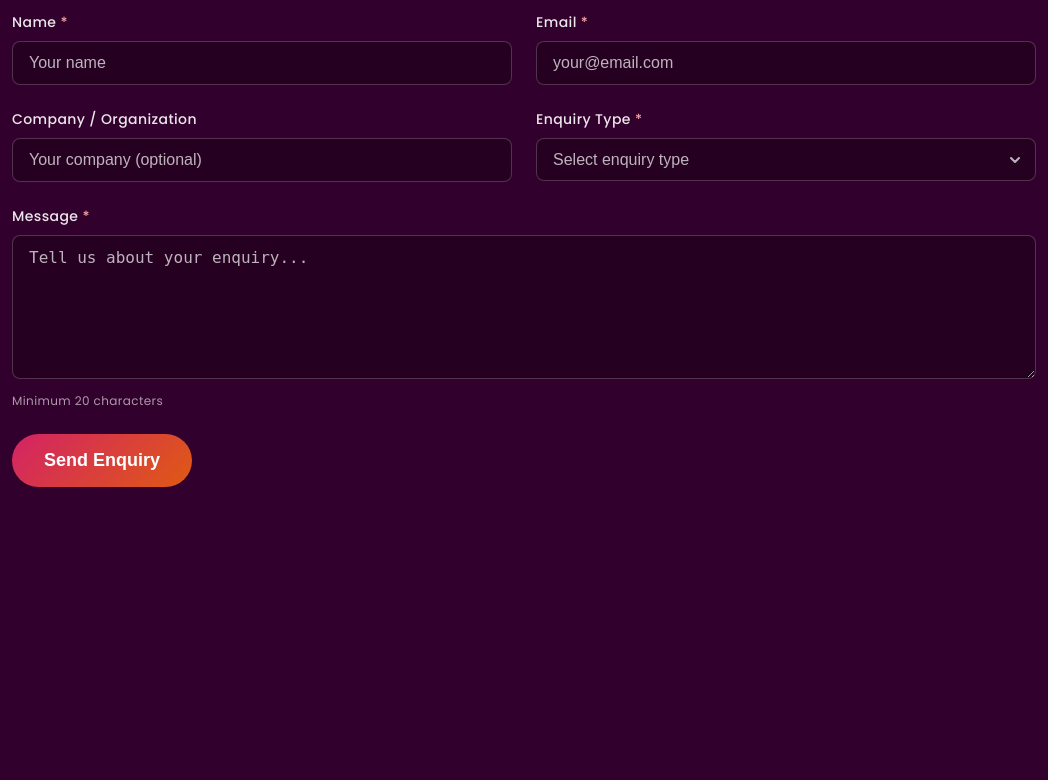
EnquiryForm › shows validation error for invalid email
Type "John Doe" into the field labelled "Name *". click: (262, 63)
box: [12,41,512,85]
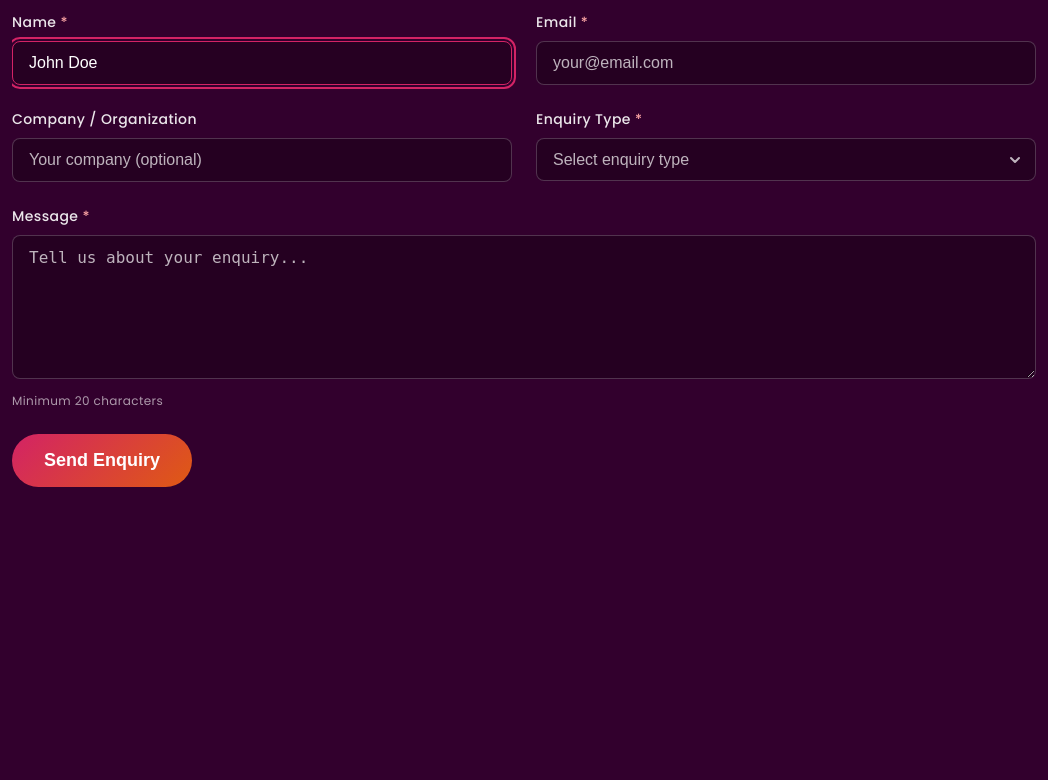
Type "not-an-email" into the field labelled "Email *". click: (786, 63)
box: [536,41,1036,85]
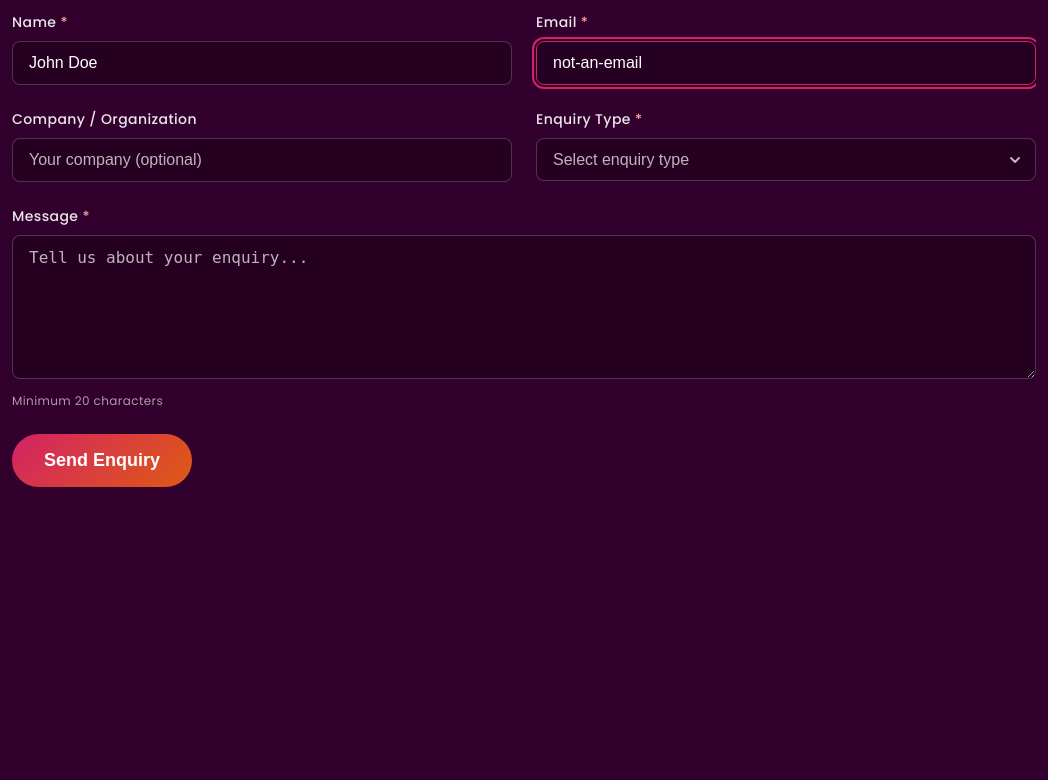
Click the button "Send Enquiry". click: (102, 460)
box: [12,434,192,487]
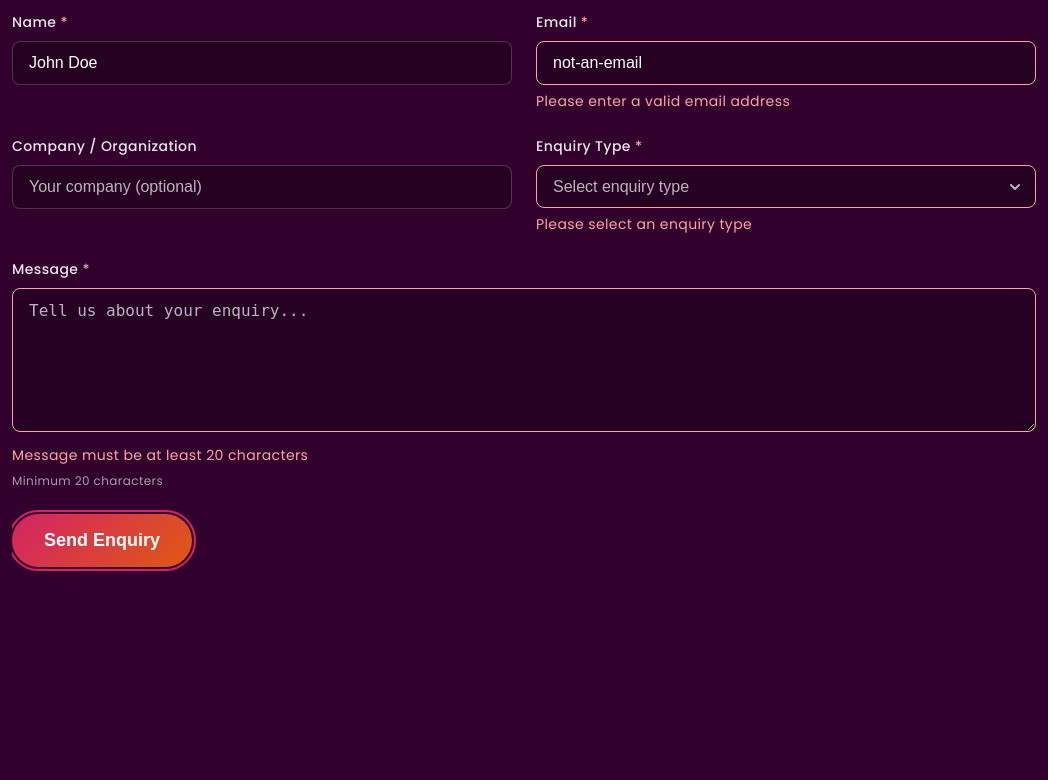
Expected: the text "Please enter a valid email address" is shown, [536,91,790,111]
